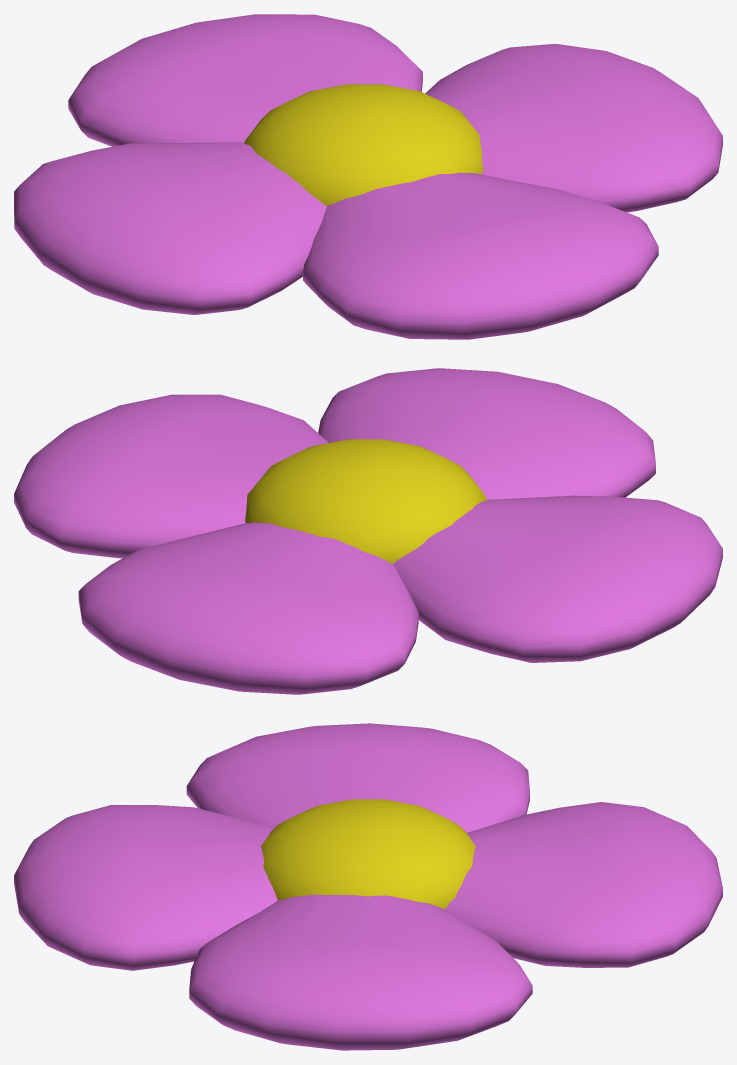
Rendered from flower Pink.fbx.
3 views of the same model, one above another, from view 1: azimuth 30°, elevation 25°; view 2: azimuth 150°, elevation 25°; view 3: azimuth 270°, elevation 25° (orthographic). The views are drawn at different scales.
Parts seen in each view (by area): view 1: pSphere16; view 2: pSphere16; view 3: pSphere16.
Boxes of the visible parts, <box> form: pSphere16: <box>14,14,722,339</box>; pSphere16: <box>14,368,722,694</box>; pSphere16: <box>14,723,722,1050</box>.
Size of the model in its own units: 3.35 by 0.5053 by 3.35.
